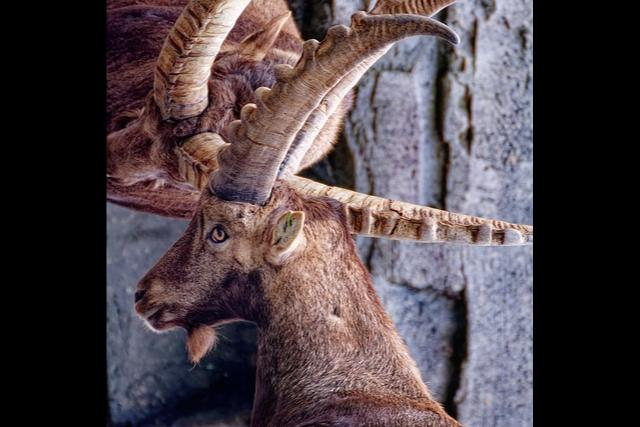Non_Gorille: (126, 0, 523, 427)
